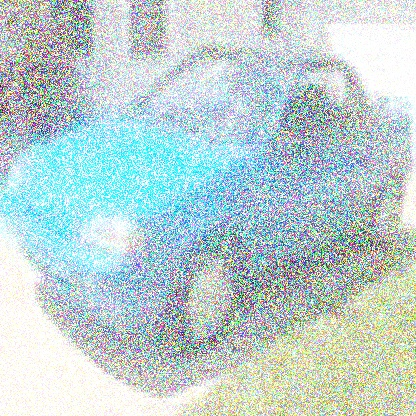Vehicle: (13, 54, 412, 356)
